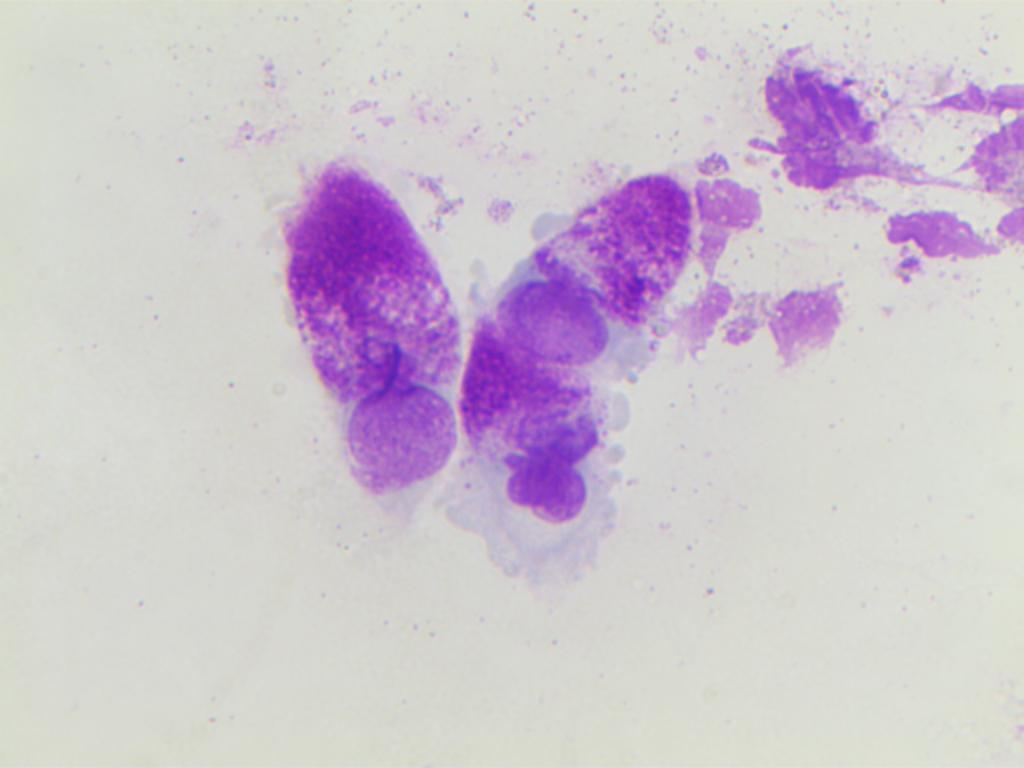artifact: (757, 58, 1024, 264), (682, 281, 851, 368), (684, 151, 763, 266)
epithelial: (498, 276, 610, 369)
goblet_cell: (270, 143, 479, 498)
